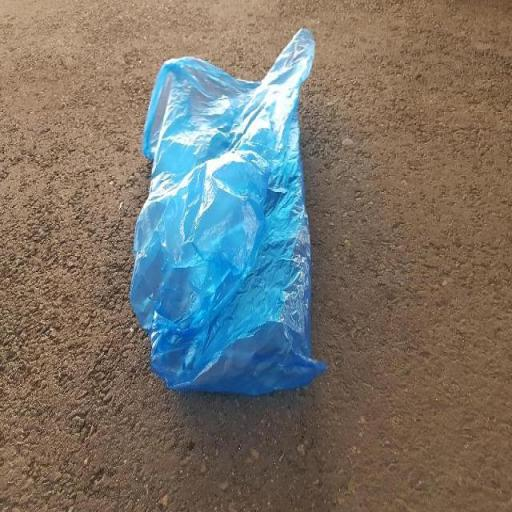plastic-bag: (128, 26, 318, 398)
